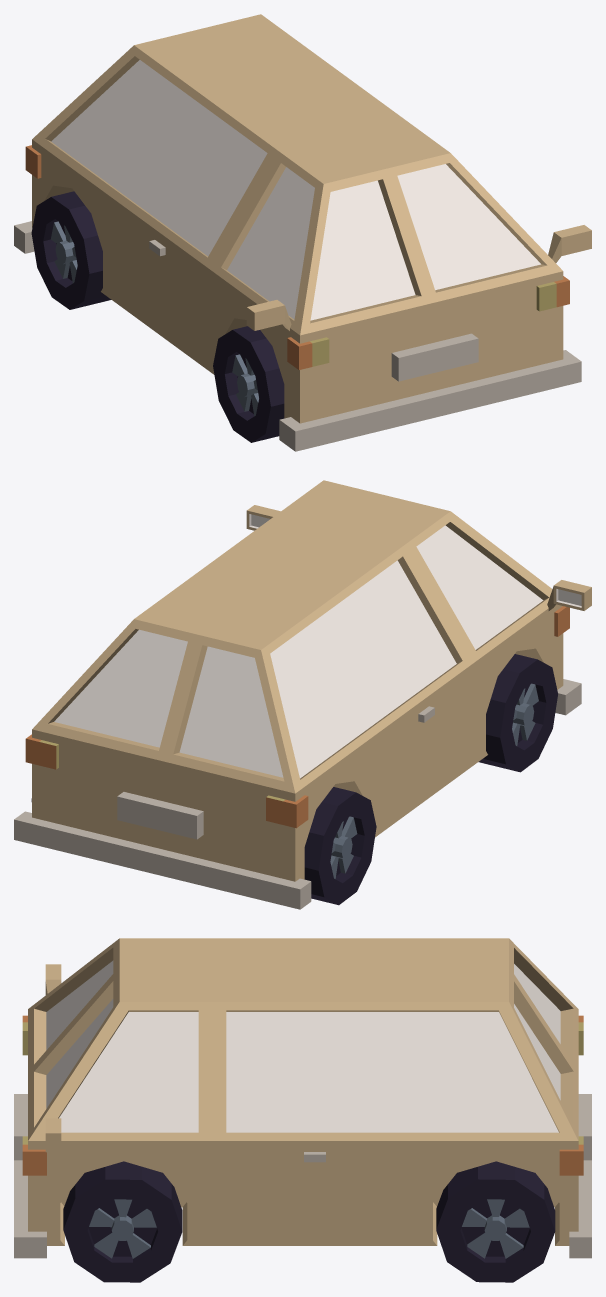
Rendered from car 13.fbx.
The picture shows the model from 3 angles, top to bottom: view 1: azimuth 30°, elevation 25°; view 2: azimuth 150°, elevation 25°; view 3: azimuth 270°, elevation 25°; orthographic projection. The views are drawn at different scales.
Parts seen in each view (by area): view 1: car 5; view 2: car 5; view 3: car 5.
Part boxes in pixels (x1,y1,x2,y2): car 5: [14, 14, 591, 451]; car 5: [14, 480, 591, 909]; car 5: [14, 938, 591, 1282].
Bounding box in the file's own units: 235 × 156 × 340.
